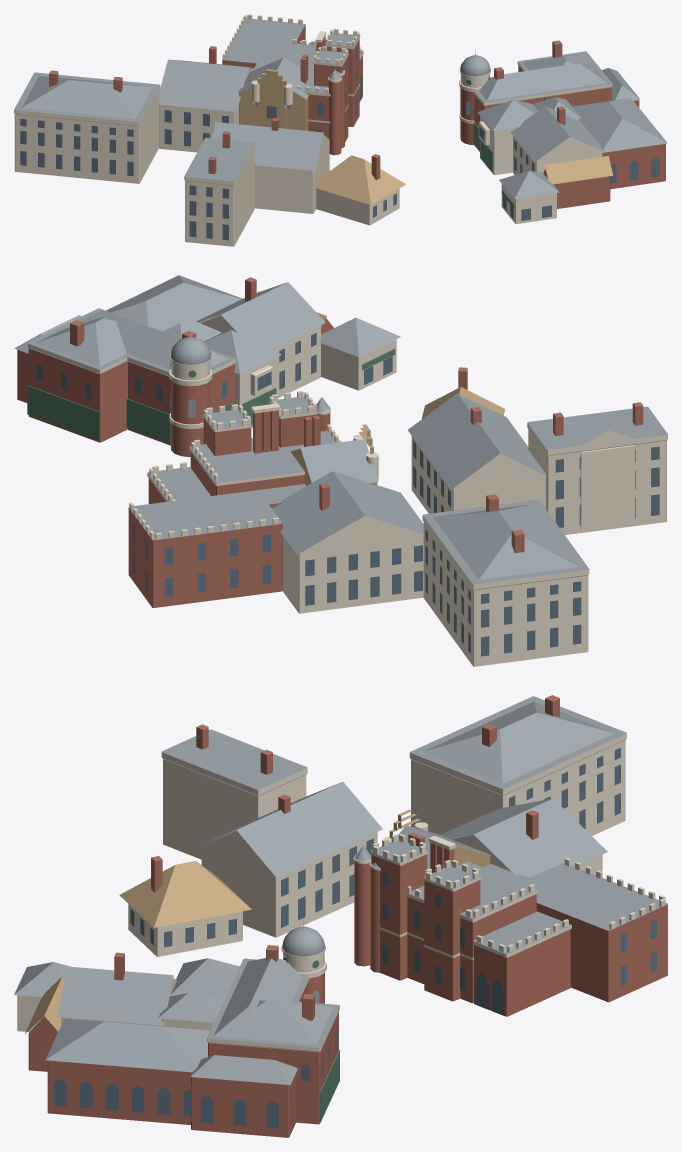
3 views of the same model, one above another, from view 1: azimuth 30°, elevation 25°; view 2: azimuth 150°, elevation 25°; view 3: azimuth 270°, elevation 25° (orthographic). The views are drawn at different scales.
Parts seen in each view (by area): view 1: united-kingdom-pavilion-walt-disney-world; view 2: united-kingdom-pavilion-walt-disney-world; view 3: united-kingdom-pavilion-walt-disney-world.
Boxes of the visible parts, x1,y1,x2,y2 form: united-kingdom-pavilion-walt-disney-world: [14, 14, 667, 246]; united-kingdom-pavilion-walt-disney-world: [14, 275, 667, 666]; united-kingdom-pavilion-walt-disney-world: [14, 695, 667, 1137].
Bounding box in the file's own units: 90.72 × 15.6 × 70.57.
